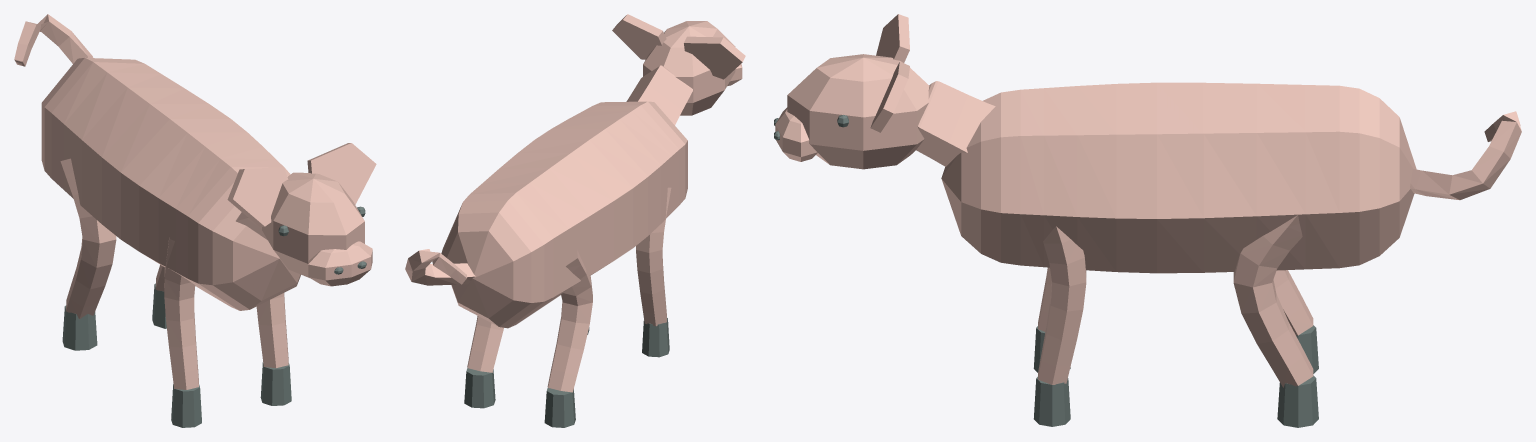
Rendered from piglet.glb.
The picture shows the model from 3 angles, left to right: view 1: azimuth 30°, elevation 25°; view 2: azimuth 150°, elevation 25°; view 3: azimuth 270°, elevation 25°; orthographic projection. The views are drawn at different scales.
Visible parts, largest first — view 1: piglet; view 2: piglet; view 3: piglet.
Boxes of the visible parts, x1,y1,x2,y2 form: piglet: (14,14,376,427); piglet: (405,14,745,427); piglet: (774,14,1521,427).
Size of the model in its own units: 0.3425 by 0.6819 by 1.32.
